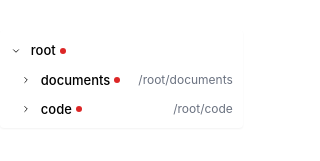
Scenario: FolderBrowser › Expanding/Collapsing Folders › expands folder when chevron is clicked
This screenshot has width=320, height=161.
Click the button without text in the row of "/root/documents". click: point(26, 80)
box: [21,75,31,85]
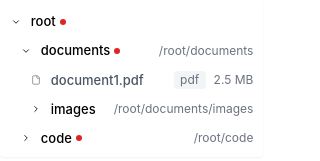
Now the text "document1.pdf" is shown, box [51,72,156,88]
Now the text "images" is shown, box [51,101,96,118]
